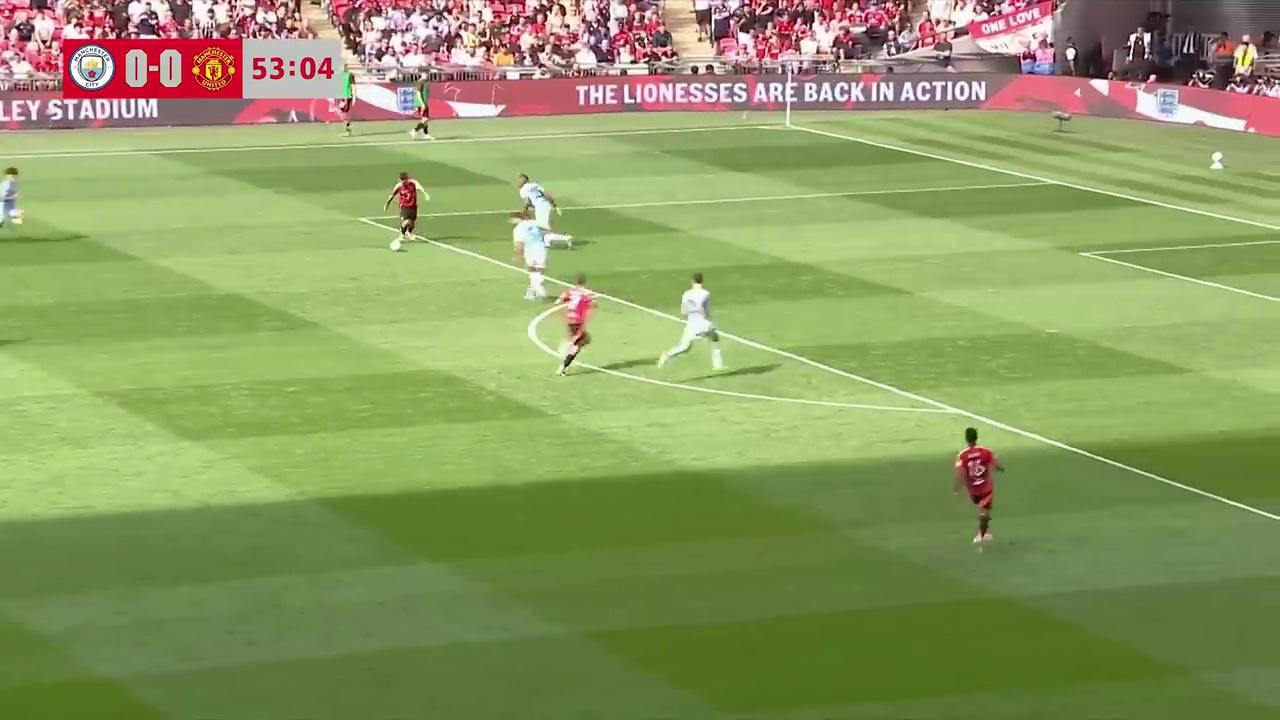ball: (388, 235, 402, 253)
player: (953, 427, 1004, 549), (662, 273, 724, 367), (551, 275, 598, 374), (516, 173, 572, 252), (511, 208, 551, 300), (384, 172, 428, 247), (0, 167, 24, 232)
